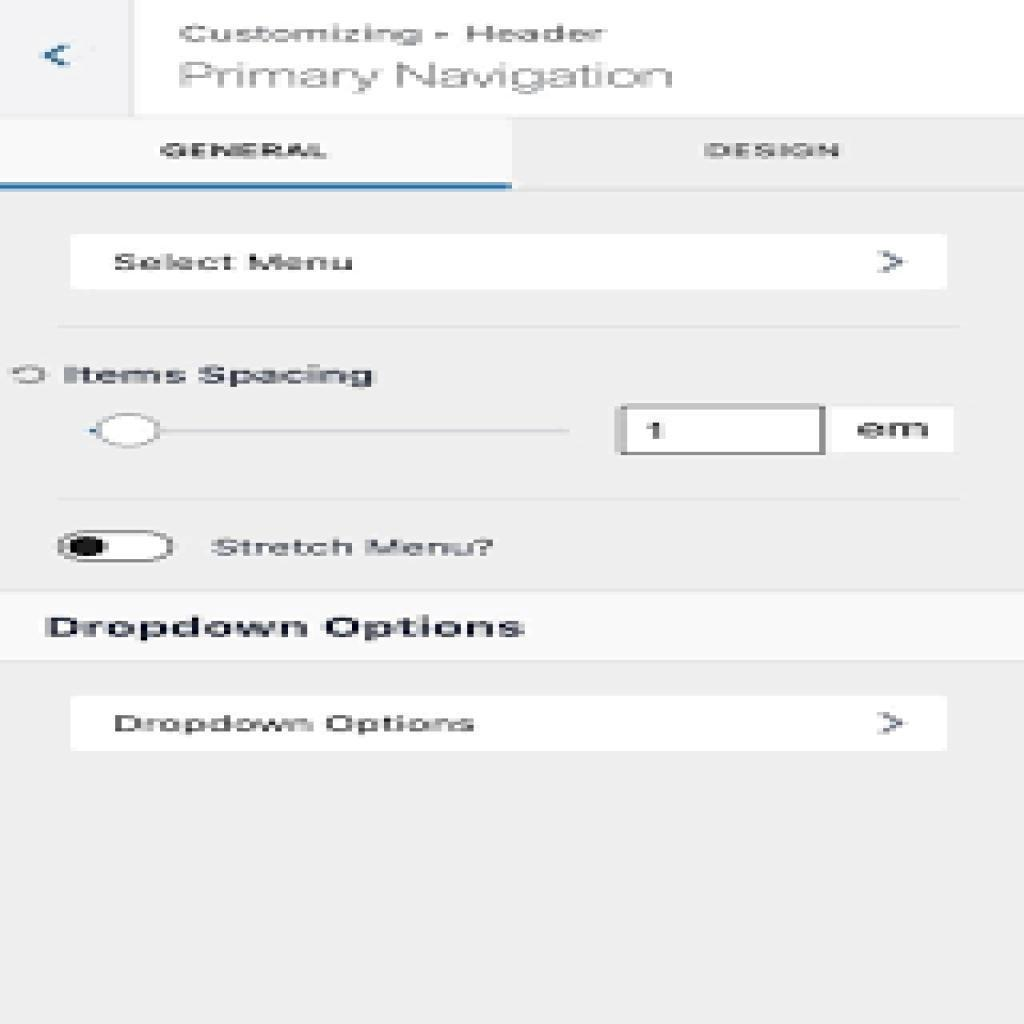icon: (37, 34, 83, 81), (870, 704, 910, 746), (874, 238, 910, 284)
switch: (53, 526, 180, 568)
